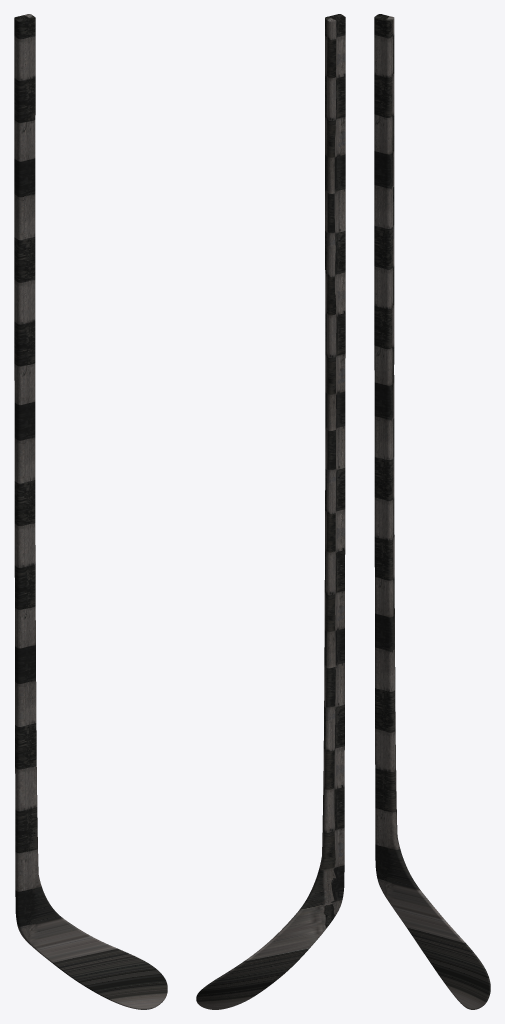
Rendered from P28-SBT.glb.
3 renders of one model, left to right at view 1: azimuth 30°, elevation 25°; view 2: azimuth 210°, elevation 25°; view 3: azimuth 330°, elevation 25°, orthographic. The views are drawn at different scales.
Parts seen in each view (by area): view 1: geometry_0; view 2: geometry_0; view 3: geometry_0.
Part boxes in pixels (left/top/right/bottom): geometry_0: left=14, top=14, right=167, bottom=1009; geometry_0: left=196, top=14, right=345, bottom=1009; geometry_0: left=374, top=14, right=490, bottom=1009.
Size of the model in its own units: 232 by 1650 by 65.35.
1 material, 1 textured.
